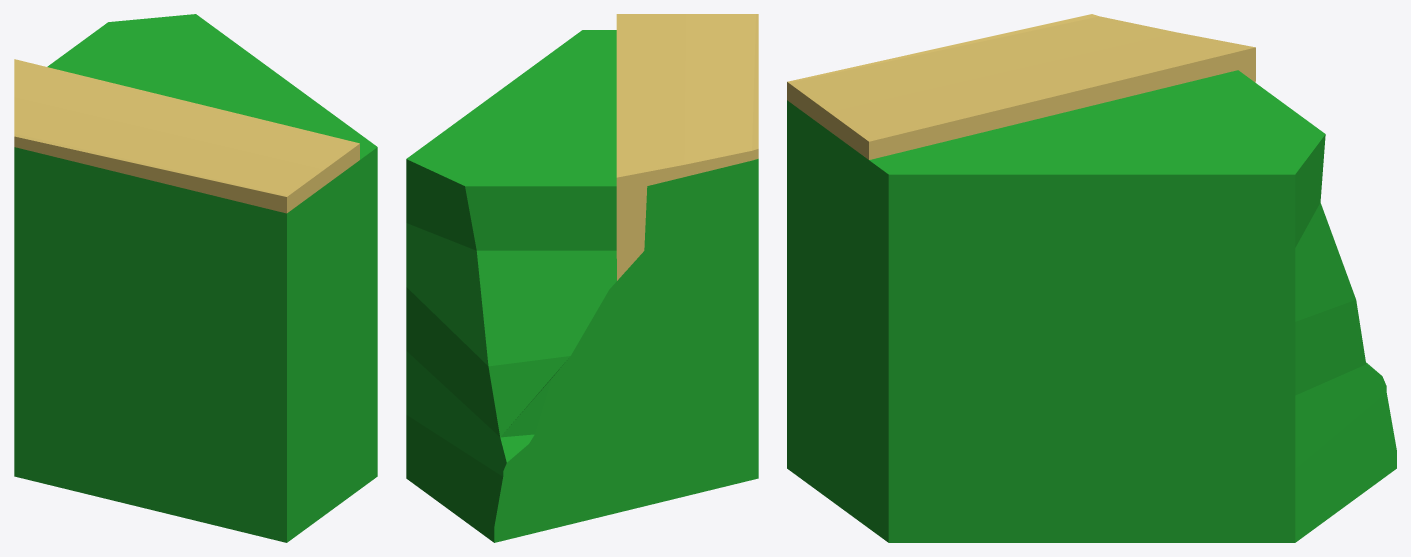
Rendered from module-corner_land_cliff_big_stairs_002.glb.
The picture shows the model from 3 angles, left to right: view 1: azimuth 30°, elevation 25°; view 2: azimuth 150°, elevation 25°; view 3: azimuth 270°, elevation 25°; orthographic projection. The views are drawn at different scales.
Parts seen in each view (by area): view 1: module-corner_land_cliff_big_stairs_002; view 2: module-corner_land_cliff_big_stairs_002; view 3: module-corner_land_cliff_big_stairs_002.
Part boxes in pixels (x1,y1,x2,y2): module-corner_land_cliff_big_stairs_002: (14, 14, 377, 542); module-corner_land_cliff_big_stairs_002: (406, 14, 758, 542); module-corner_land_cliff_big_stairs_002: (787, 14, 1396, 542).
Bounding box in the file's own units: 0.433 × 0.525 × 0.75.
